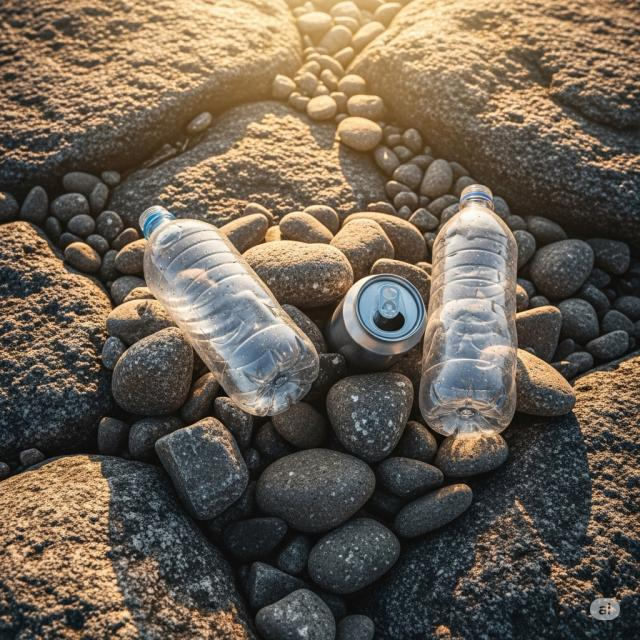aluminum: (333, 272, 429, 369)
plastic: (135, 199, 320, 422), (416, 183, 522, 439)
